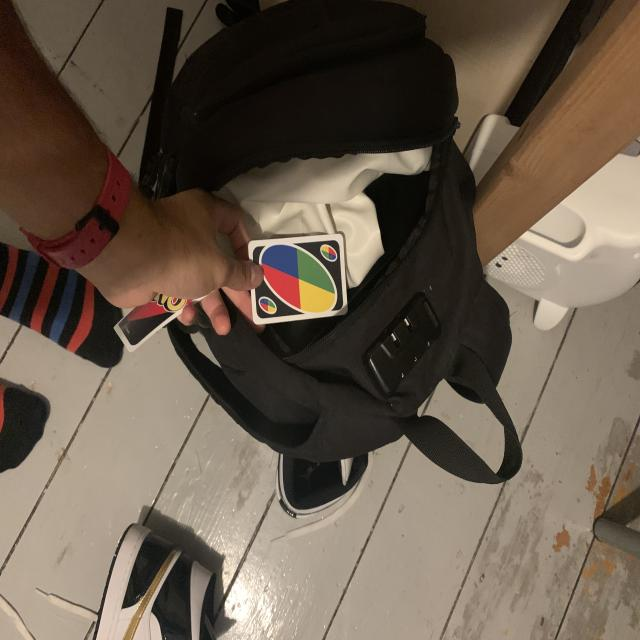lcolor-40: (316, 240, 338, 268)
